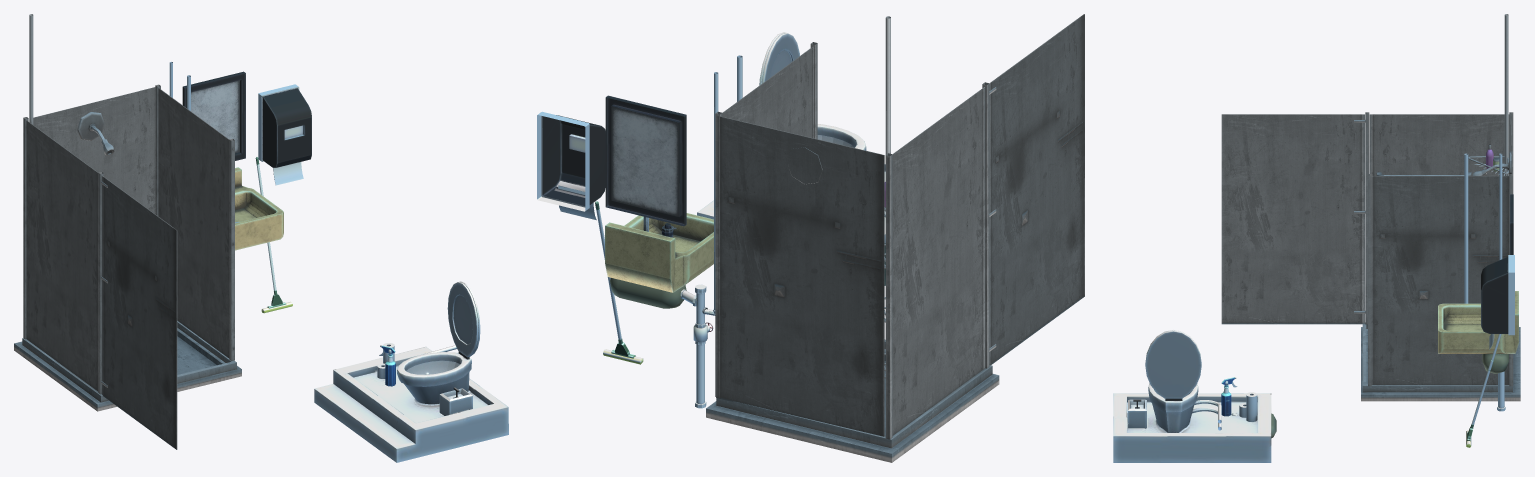
File: Bathroom_AAAndino.fbx
3 views of the same model, side by side, from view 1: azimuth 30°, elevation 25°; view 2: azimuth 150°, elevation 25°; view 3: azimuth 270°, elevation 25° (orthographic). The views are drawn at different scales.
Visible parts, largest first — view 1: polySurface299, polySurface318, polySurface314, polySurface313, polySurface311, polySurface303, polySurface320; view 2: polySurface299, polySurface313, polySurface311, polySurface314, polySurface305, polySurface318, polySurface303; view 3: polySurface299, polySurface318, polySurface311, polySurface314, polySurface305, polySurface303.
Boxes of the visible parts, x1,y1,x2,y2 form: polySurface299: [14, 14, 241, 449]; polySurface318: [314, 281, 508, 462]; polySurface314: [258, 84, 311, 185]; polySurface313: [182, 71, 245, 160]; polySurface311: [235, 167, 283, 250]; polySurface303: [255, 157, 292, 313]; polySurface320: [406, 360, 459, 374]; polySurface299: [706, 14, 1084, 462]; polySurface313: [605, 95, 686, 226]; polySurface311: [605, 213, 713, 308]; polySurface314: [537, 111, 605, 220]; polySurface305: [680, 55, 742, 408]; polySurface318: [697, 32, 885, 242]; polySurface303: [595, 201, 643, 364]; polySurface299: [1221, 14, 1520, 401]; polySurface318: [1113, 330, 1271, 462]; polySurface311: [1438, 291, 1518, 373]; polySurface314: [1481, 255, 1514, 349]; polySurface305: [1464, 153, 1505, 411]; polySurface303: [1466, 334, 1501, 447].
Bounding box in the file's own units: 4.13 × 4.65 × 5.27.
